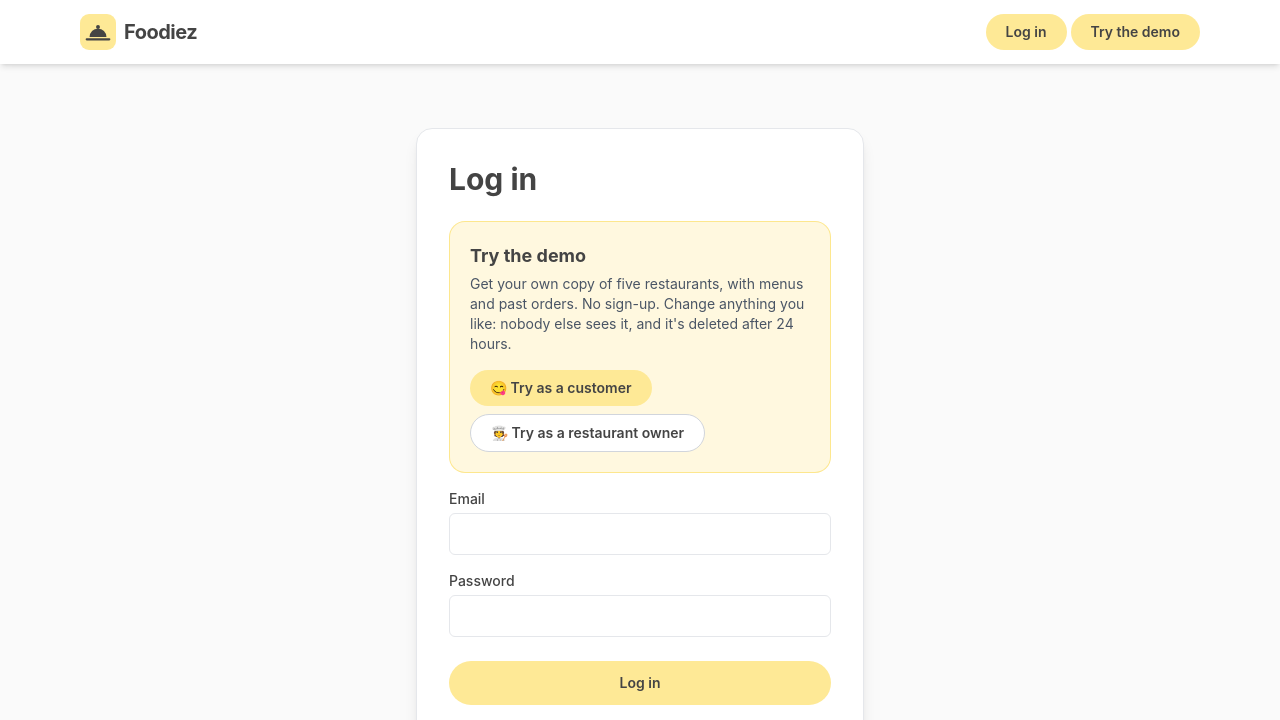
try the demo › takes a demo restaurant owner to their restaurants
What coordinates should you click on to do the following:
click the button "🧑‍🍳 Try as a restaurant owner"
I would click on:
 (588, 433)
Its box is [470,414,705,452].
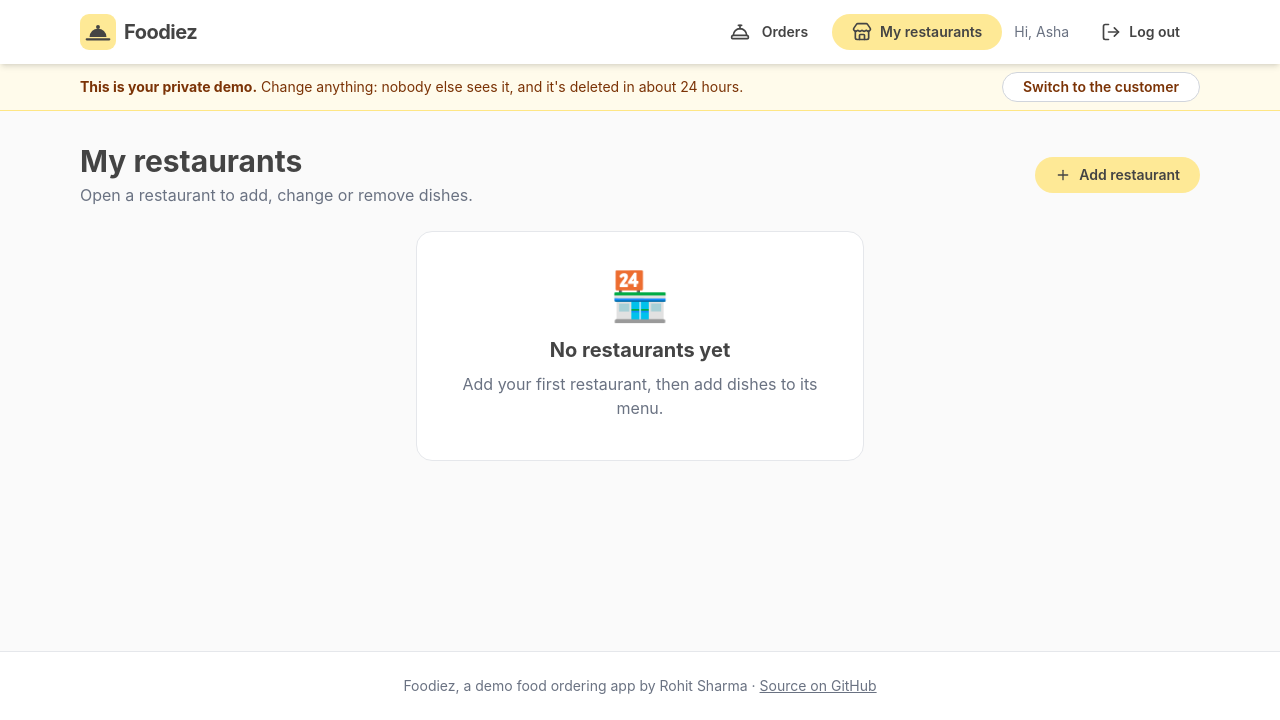
Now the heading "My restaurants" is shown, box [80,143,302,179]
